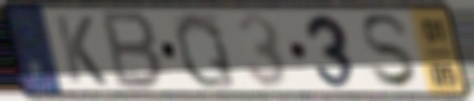3: (303, 10, 365, 92), (236, 9, 288, 92)
B: (99, 8, 166, 93)
K: (51, 12, 111, 88)
Q: (172, 10, 240, 92)
S: (358, 12, 422, 91)
